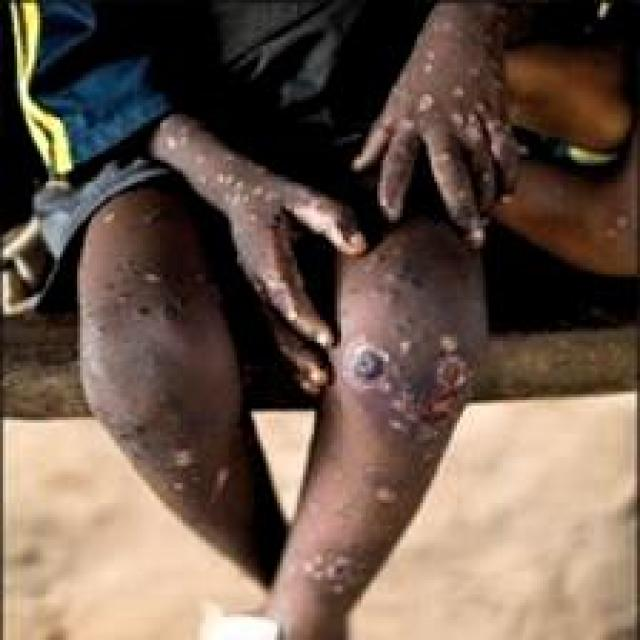monkeypox: (69, 12, 590, 640)
